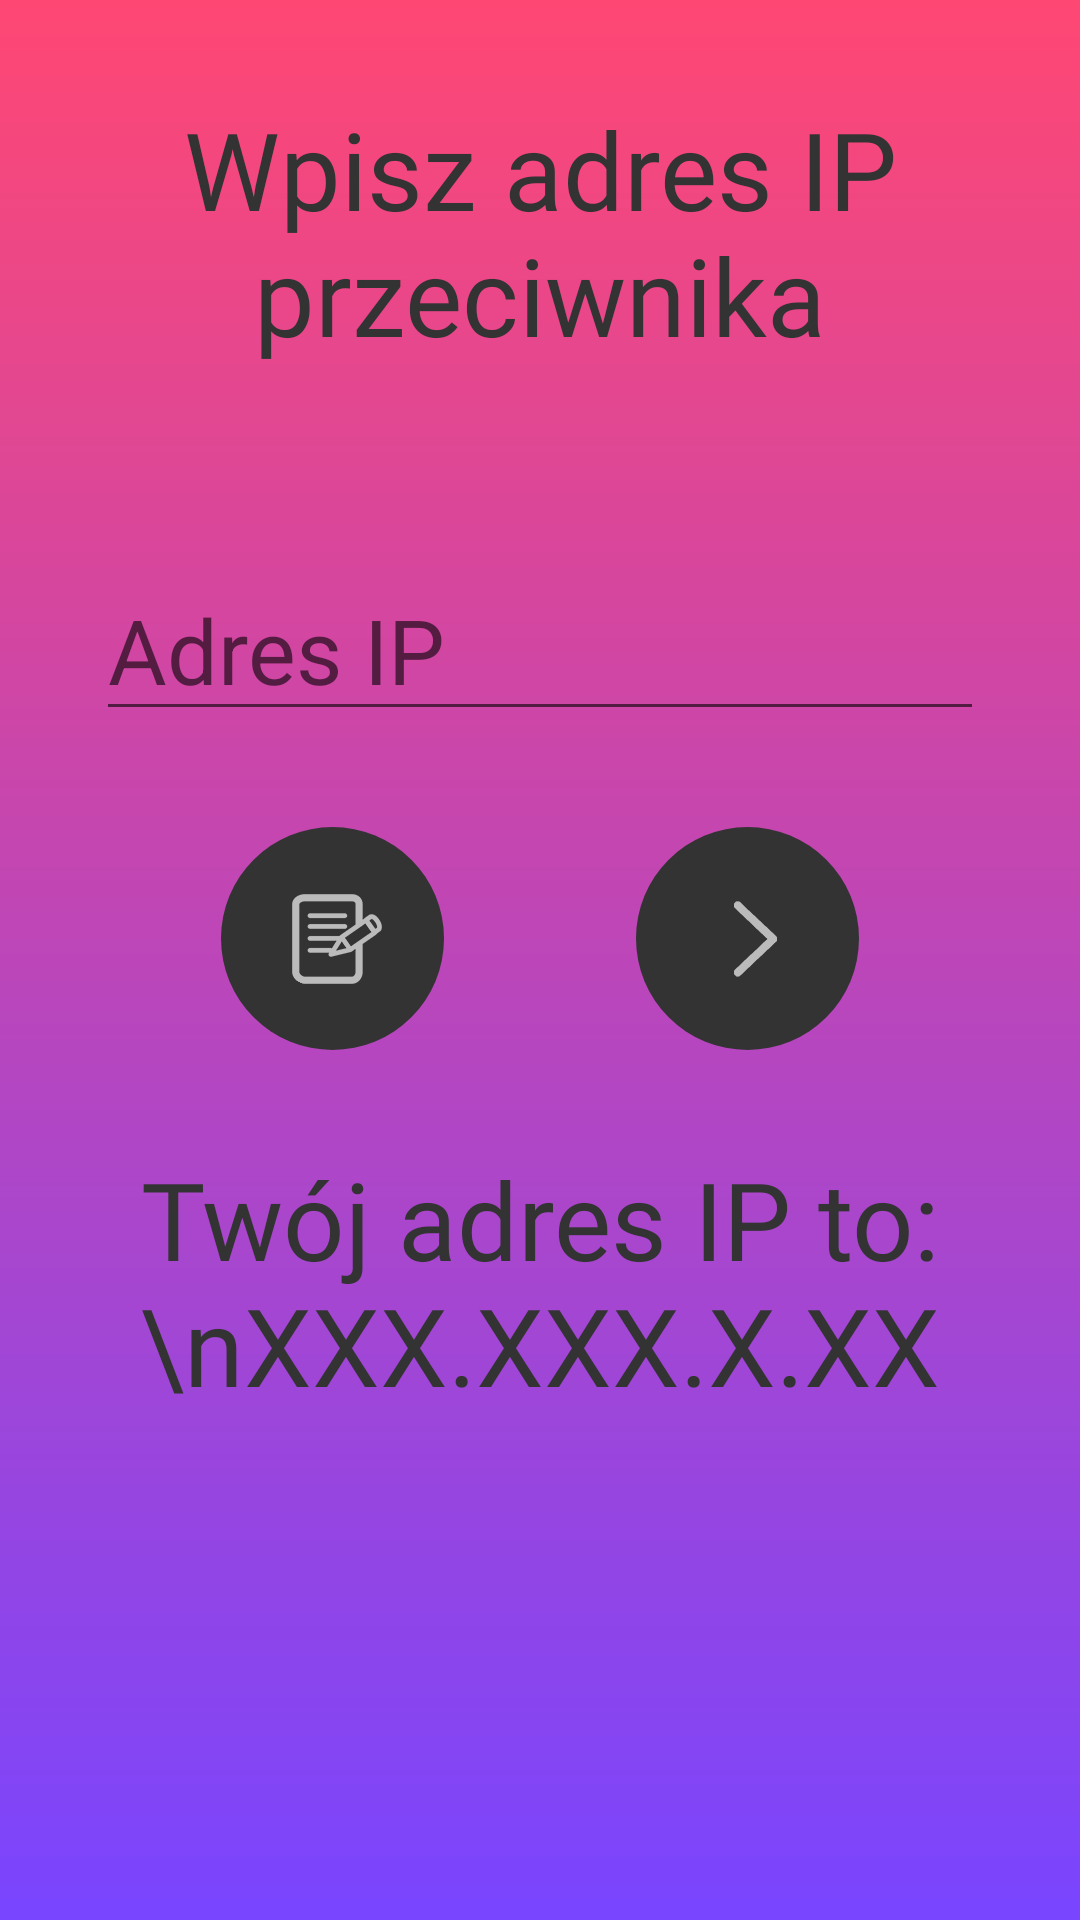

Point at icon controls on the screen. Image size 1080w x 1920h, points as point (x, y).
next: point (747, 938)
